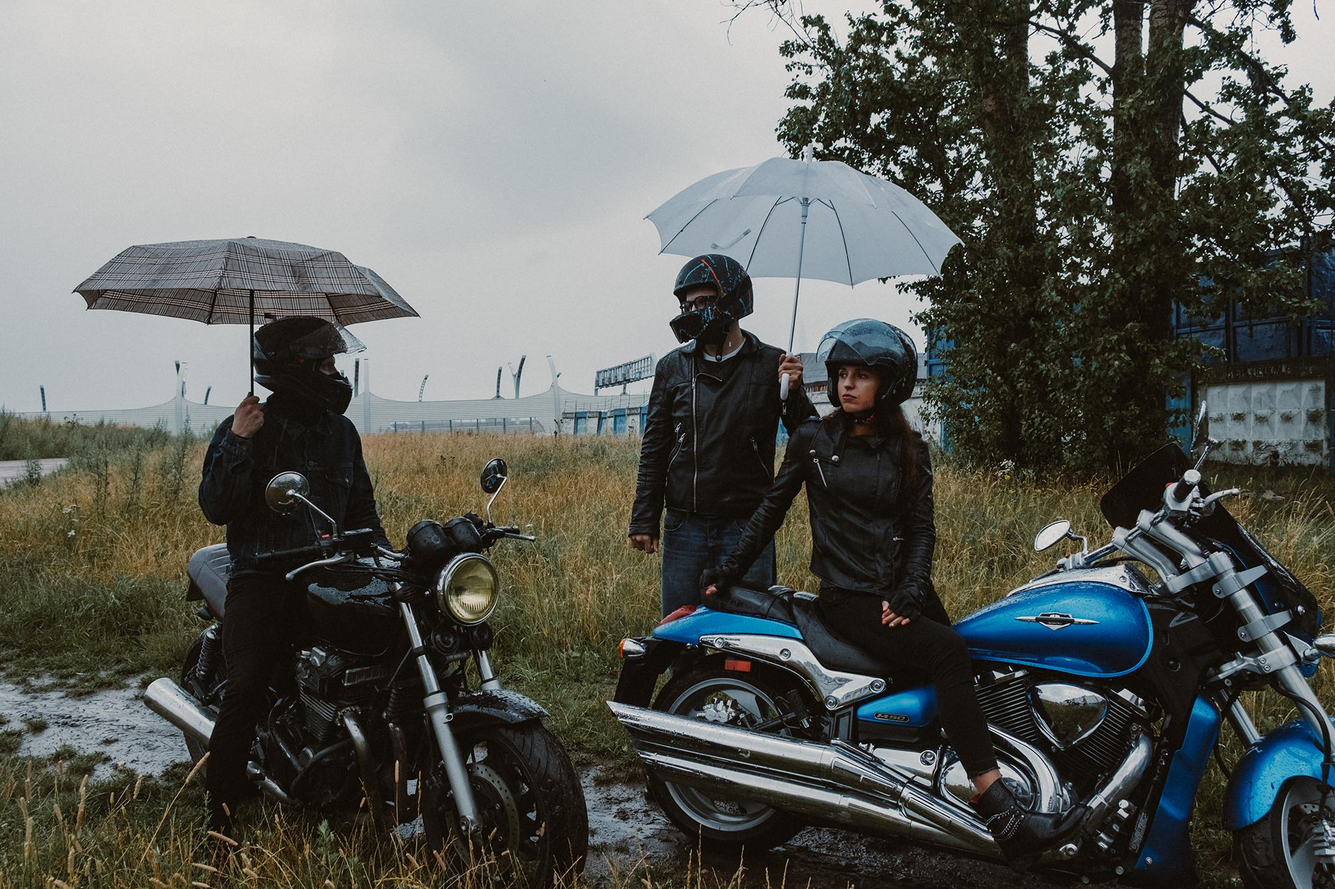helmet: (250, 314, 368, 415), (815, 317, 919, 424), (668, 253, 754, 363)
